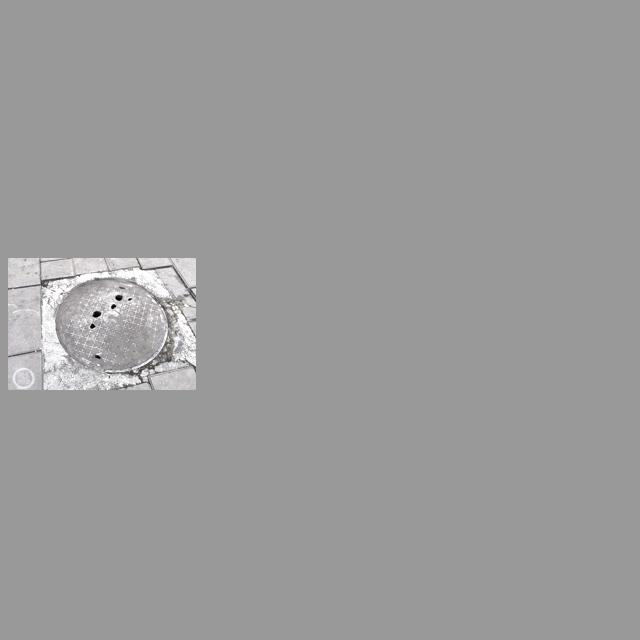circle: (37, 265, 192, 386)
